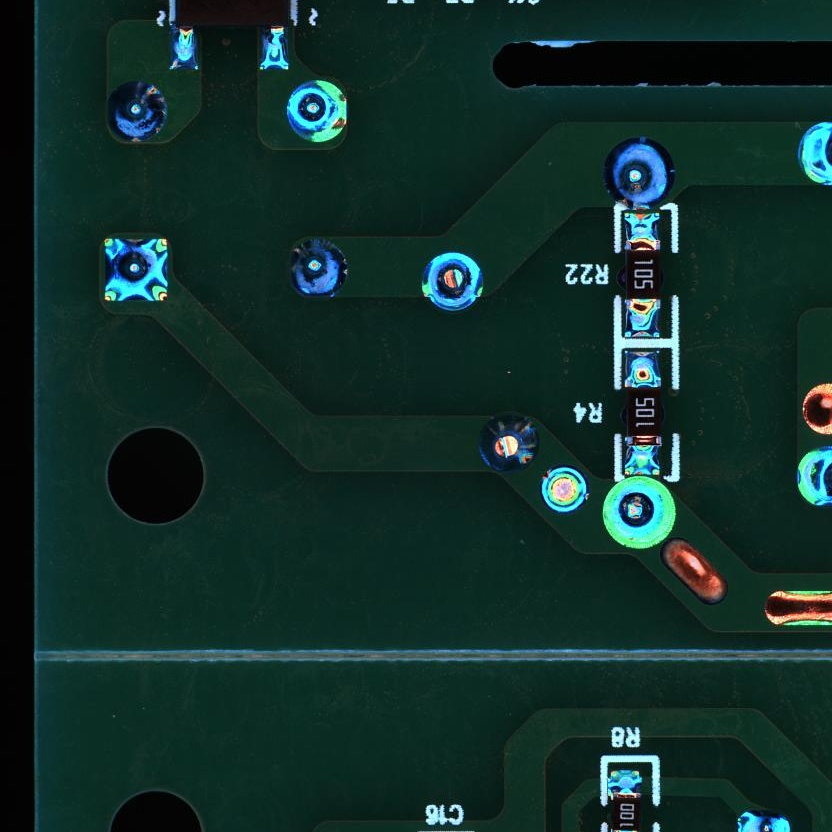spot: (600, 475, 678, 549), (605, 136, 677, 209), (101, 235, 171, 305), (284, 79, 349, 144), (419, 250, 486, 313), (288, 236, 350, 300), (477, 410, 539, 472), (104, 80, 165, 143), (542, 464, 589, 514), (797, 119, 832, 186)
